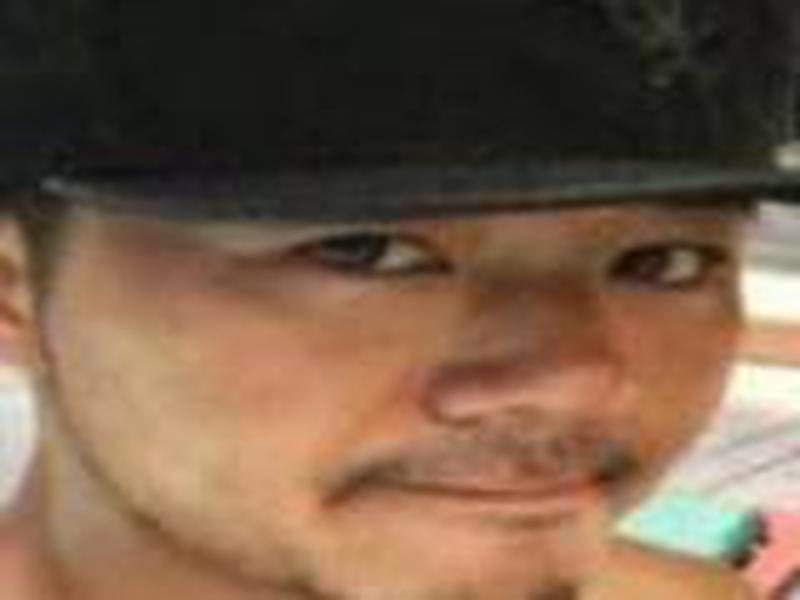without_mask: (47, 195, 755, 600)
